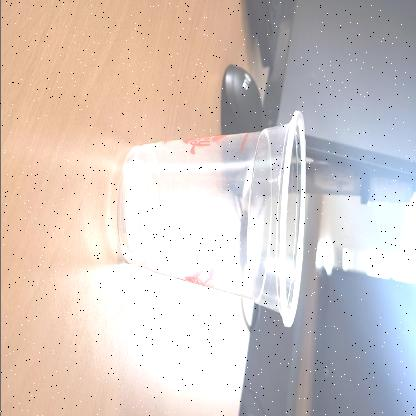Others: (114, 109, 306, 327)
